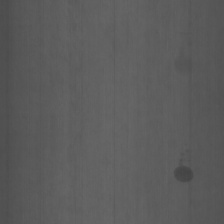oil_spot: (170, 154, 199, 189)
